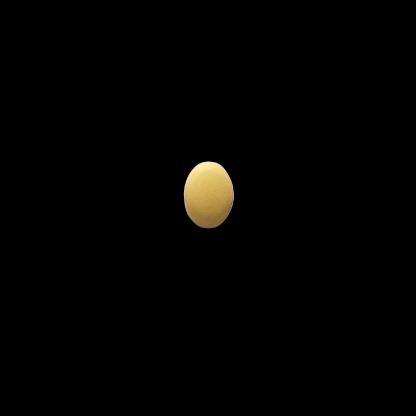rabeparzole20: (172, 145, 251, 252)
